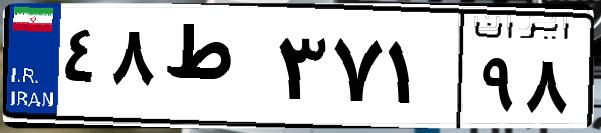1: (385, 28, 445, 110)
3: (270, 28, 330, 110)
4: (57, 26, 110, 100)
7: (330, 28, 385, 110)
8: (525, 38, 570, 115), (110, 28, 158, 98)
9: (475, 38, 525, 113)
ط: (158, 20, 270, 120)
